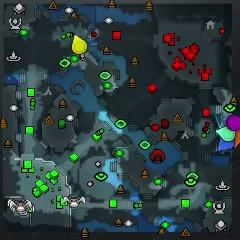p1: (217, 137, 235, 151)
p2: (217, 126, 235, 141)
p3: (227, 115, 240, 131)
p4: (72, 35, 87, 54)
p5: (232, 129, 240, 147)
